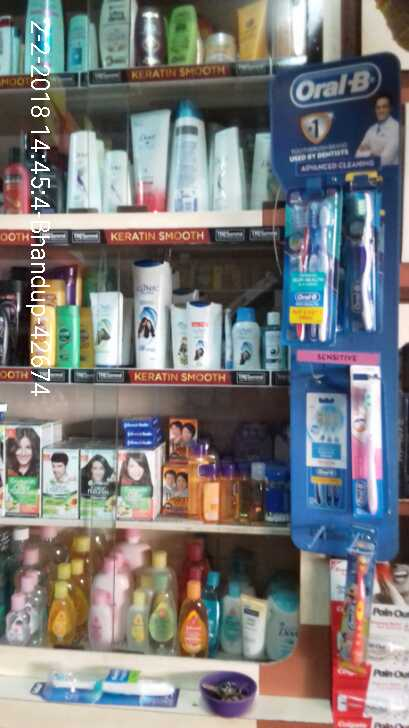oralb: (279, 200, 336, 344), (347, 377, 393, 520), (348, 189, 381, 327)
